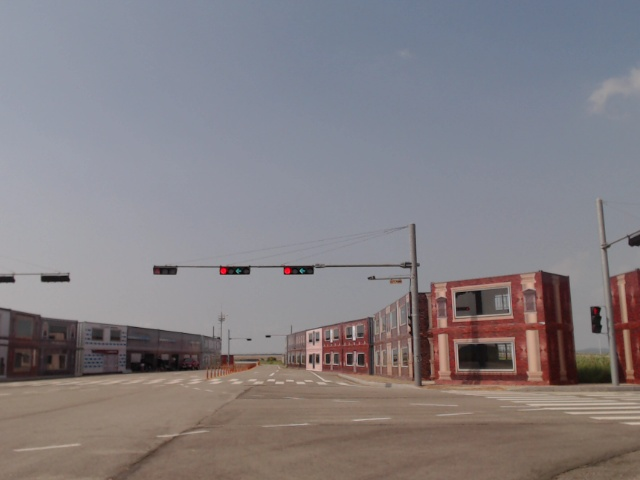left_green_4: (220, 266, 250, 276), (284, 266, 314, 276)
